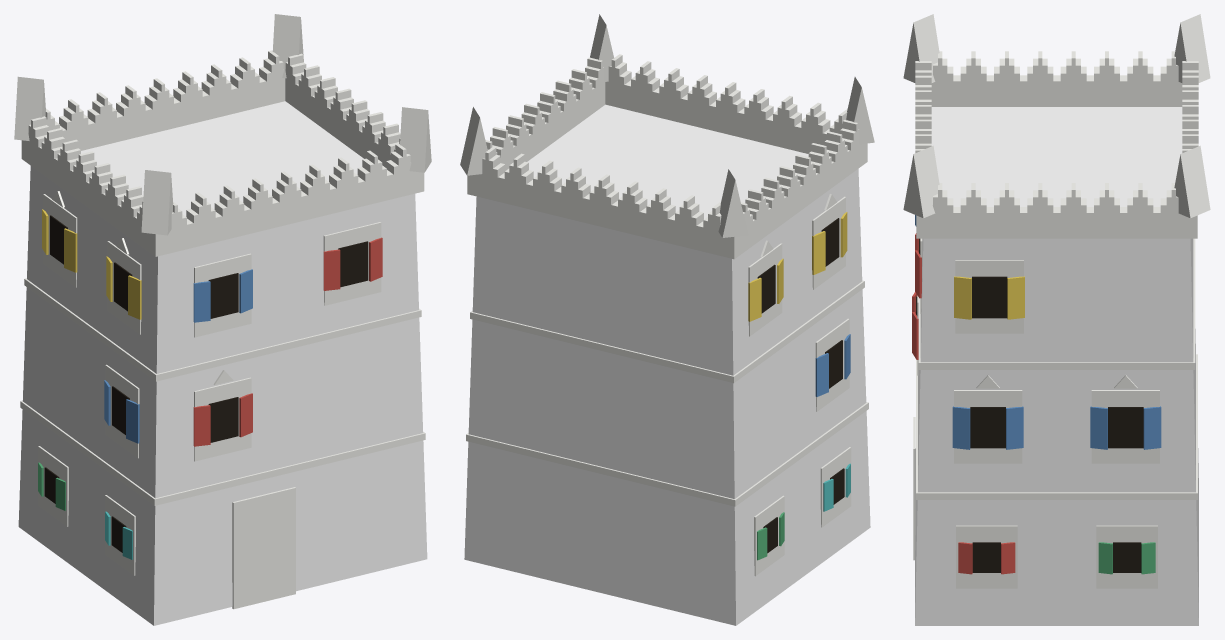
The model's file is SM_RijalAlmaaHouse_04.fbx.
The picture shows the model from 3 angles, left to right: view 1: azimuth 30°, elevation 25°; view 2: azimuth 150°, elevation 25°; view 3: azimuth 270°, elevation 25°; orthographic projection. The views are drawn at different scales.
Visible parts, largest first — view 1: SM_RijalAlmaaHouse_04; view 2: SM_RijalAlmaaHouse_04; view 3: SM_RijalAlmaaHouse_04.
Part boxes in pixels (left/top/right/bottom): SM_RijalAlmaaHouse_04: left=14, top=14, right=431, bottom=625; SM_RijalAlmaaHouse_04: left=460, top=14, right=874, bottom=625; SM_RijalAlmaaHouse_04: left=903, top=14, right=1210, bottom=625.
Size of the model in its own units: 743 by 1105 by 649.
